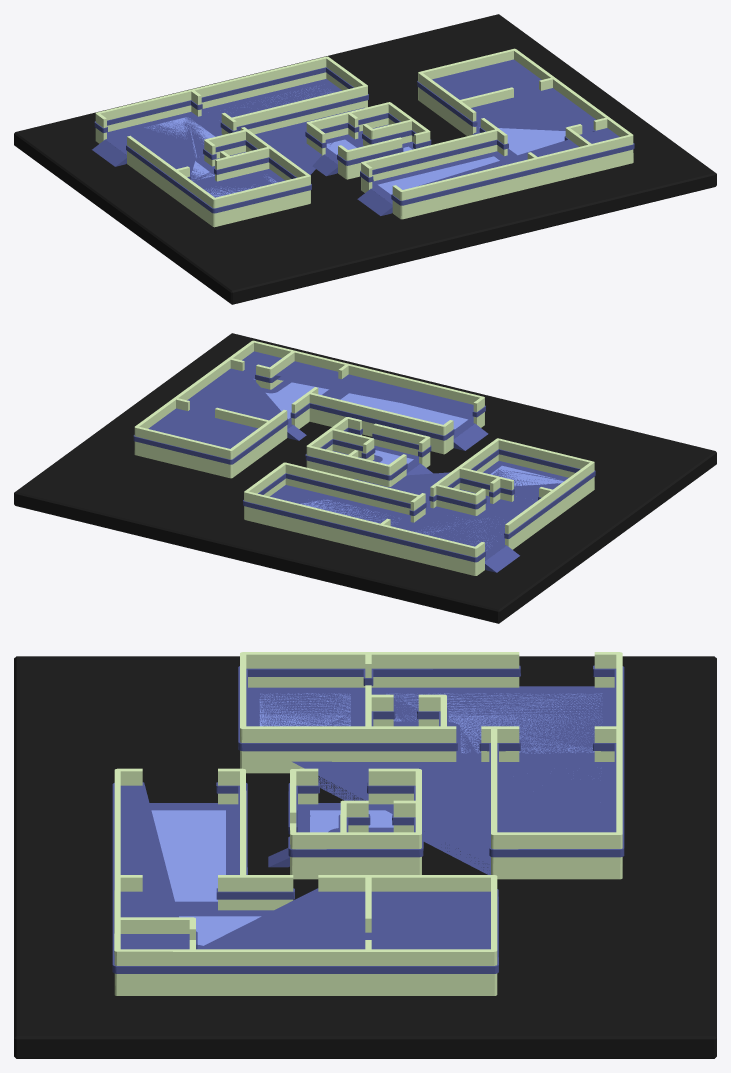
Rendered from hospital.fbx.
3 views of the same model, one above another, from view 1: azimuth 30°, elevation 25°; view 2: azimuth 150°, elevation 25°; view 3: azimuth 270°, elevation 25° (orthographic). The views are drawn at different scales.
Visible parts, largest first — view 1: Plane, walls, wall details, floor details, floor, ramps; view 2: Plane, walls, wall details, floor details, floor, ramps; view 3: Plane, walls, floor details, wall details, floor.
Part boxes in pixels (x1,y1,x2,y2): Plane: [14, 14, 716, 304]; walls: [95, 48, 633, 227]; wall details: [94, 59, 634, 213]; floor details: [105, 79, 516, 204]; floor: [144, 86, 565, 197]; ramps: [92, 133, 475, 215]; Plane: [14, 333, 716, 623]; walls: [134, 340, 594, 575]; wall details: [133, 351, 595, 562]; floor details: [254, 379, 568, 560]; floor: [254, 379, 563, 550]; ramps: [287, 423, 519, 572]; Plane: [14, 656, 716, 1058]; walls: [114, 652, 622, 995]; floor details: [149, 686, 614, 948]; wall details: [112, 665, 624, 973]; floor: [151, 693, 602, 945].
Bounding box in the file's own units: 3600 × 294 × 2800.
